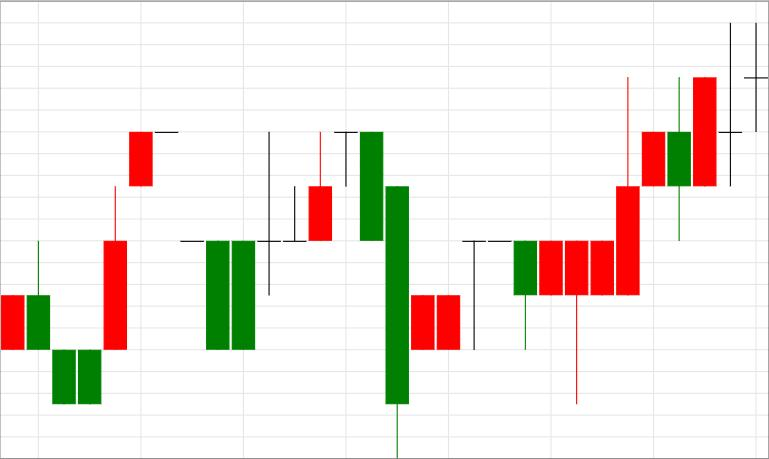evening_star_fall: (232, 131, 383, 349)
